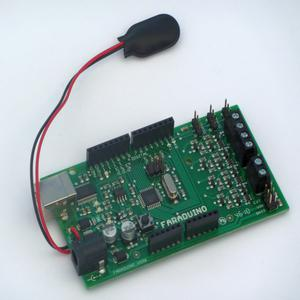duino: (36, 74, 293, 296)
